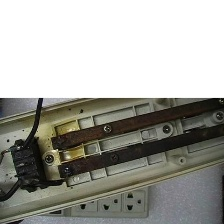three_eye_plug: (0, 74, 224, 224), (15, 133, 152, 220)
